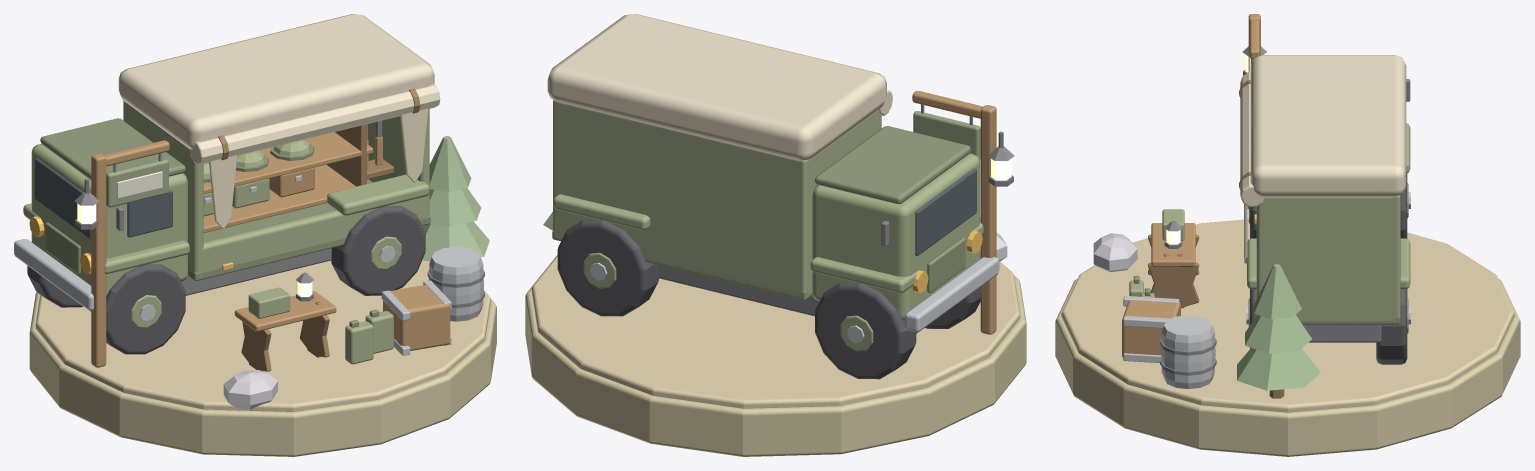
The model's file is PR_RouteShop.glb.
3 views of the same model, side by side, from view 1: azimuth 30°, elevation 25°; view 2: azimuth 150°, elevation 25°; view 3: azimuth 270°, elevation 25° (orthographic). The views are drawn at different scales.
Visible parts, largest first — view 1: Tile_Top, Tarp_Roof, Tile_Plinth, Truck_Cab, Truck_Tyre.002, Tarp_Roll, Body_Sill, Truck_Tyre, Truck_CabRoof, Sign_Post, Prop_Crate, Body_End (+33 smaller); view 2: Tile_Top, Body_Back, Tarp_Roof, Tile_Plinth, Truck_Cab, Truck_CabRoof, Truck_Tyre.003, Truck_Tyre.001, Sign_Post, Truck_Windscreen, Truck_Bumper, Body_End (+10 smaller); view 3: Tile_Top, Tarp_Roof, Tile_Plinth, Body_End.001, Prop_Barrel, Prop_PineTier0, Prop_Crate, Prop_PineTier1, Prop_PineTier2, Tarp_Roll, Truck_Tyre.003, Table_Top (+9 smaller).
Boxes of the visible parts, box(x1,y1,x2,y2) form: Tile_Top: box(35, 260, 490, 411); Tarp_Roof: box(118, 14, 434, 149); Tile_Plinth: box(29, 290, 496, 456); Truck_Cab: box(31, 144, 187, 295); Truck_Tyre.002: box(331, 206, 425, 295); Tarp_Roll: box(190, 84, 440, 164); Body_Sill: box(191, 196, 427, 273); Truck_Tyre: box(106, 264, 185, 354); Truck_CabRoof: box(40, 118, 185, 179); Sign_Post: box(91, 153, 106, 367); Prop_Crate: box(383, 285, 450, 350); Body_End: box(125, 103, 203, 276); Tile_Top: box(531, 255, 1020, 408); Body_Back: box(553, 100, 808, 296); Tarp_Roof: box(547, 14, 886, 160); Tile_Plinth: box(525, 255, 1026, 456); Truck_Cab: box(812, 153, 980, 320); Truck_CabRoof: box(815, 126, 970, 204); Truck_Tyre.003: box(557, 220, 658, 316); Truck_Tyre.001: box(815, 282, 916, 379); Sign_Post: box(980, 105, 996, 334); Truck_Windscreen: box(915, 168, 976, 255); Truck_Bumper: box(905, 257, 999, 331); Body_End: box(798, 109, 881, 294); Tile_Top: box(1061, 219, 1514, 412); Tarp_Roof: box(1250, 55, 1406, 196); Tile_Plinth: box(1055, 279, 1520, 456); Body_End.001: box(1256, 196, 1395, 321); Prop_Barrel: box(1161, 315, 1215, 389); Prop_PineTier0: box(1237, 348, 1320, 390); Prop_Crate: box(1122, 300, 1180, 357); Prop_PineTier1: box(1245, 314, 1311, 353); Prop_PineTier2: box(1254, 264, 1301, 319); Tarp_Roll: box(1240, 71, 1264, 206); Truck_Tyre.003: box(1376, 289, 1407, 364); Table_Top: box(1151, 223, 1195, 266).
Bounding box in the file's own units: 6.48 × 3.99 × 6.3.
